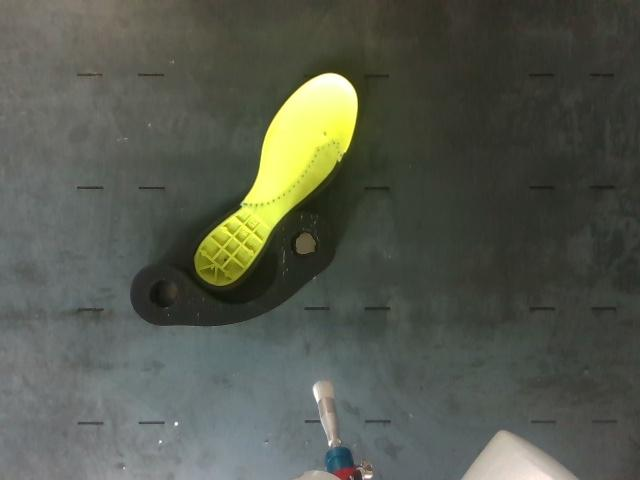shoes: (191, 73, 358, 290)
